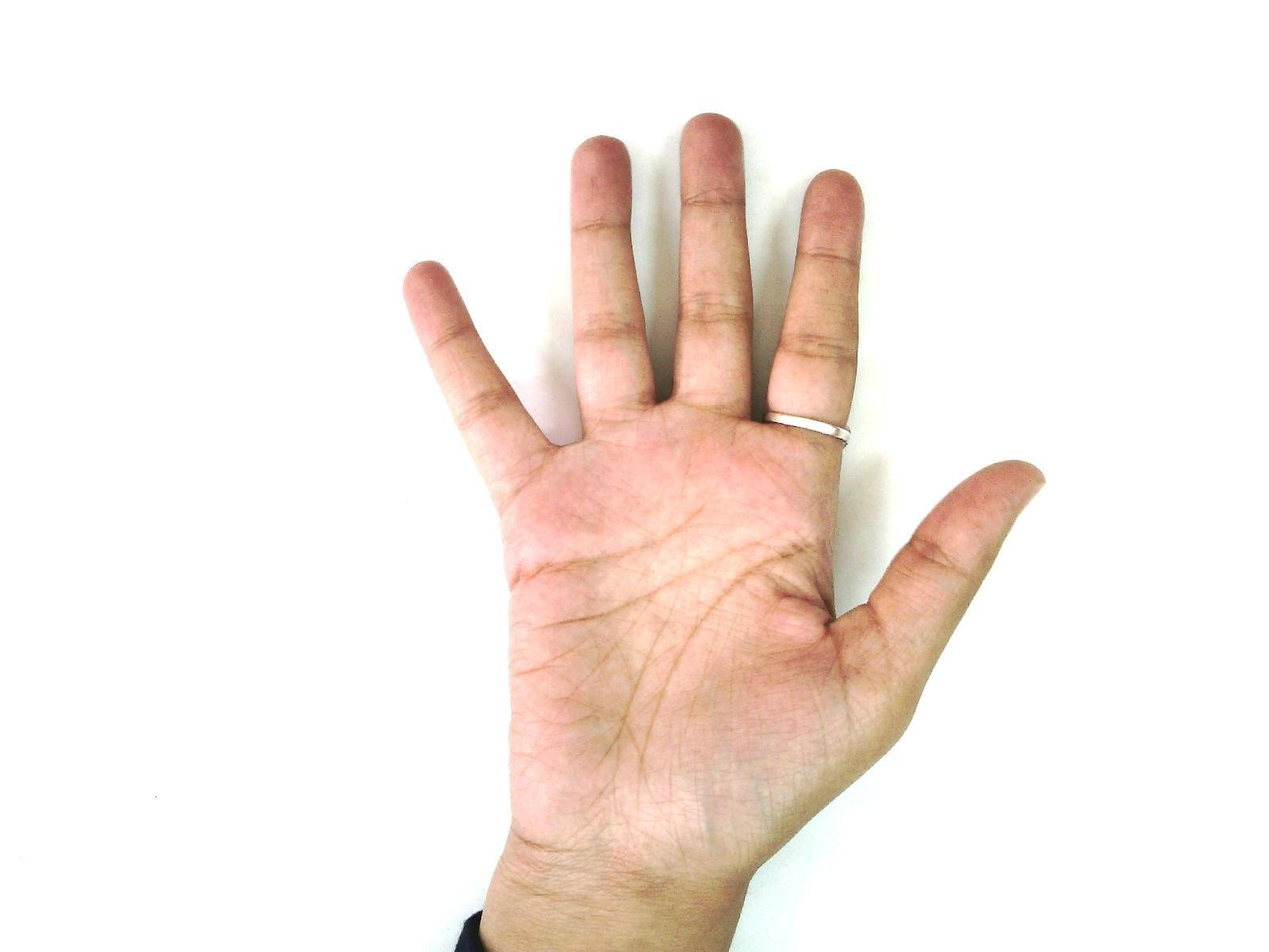open_palm: (399, 112, 1043, 882)
